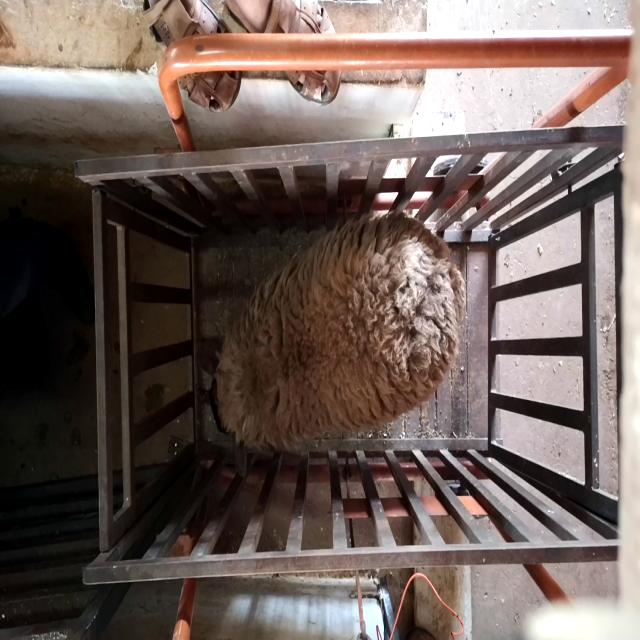sheep: (197, 209, 467, 479)
